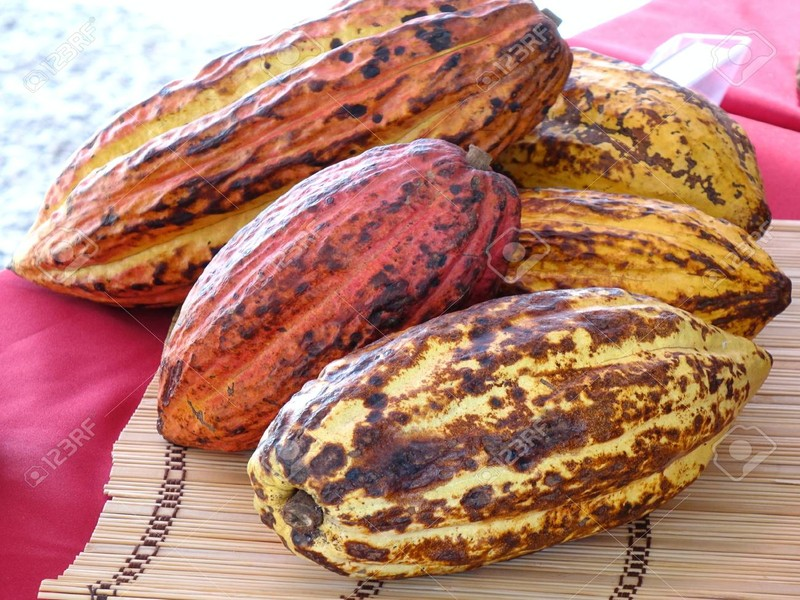Cacaopod: (8, 1, 562, 303), (242, 282, 765, 578)
